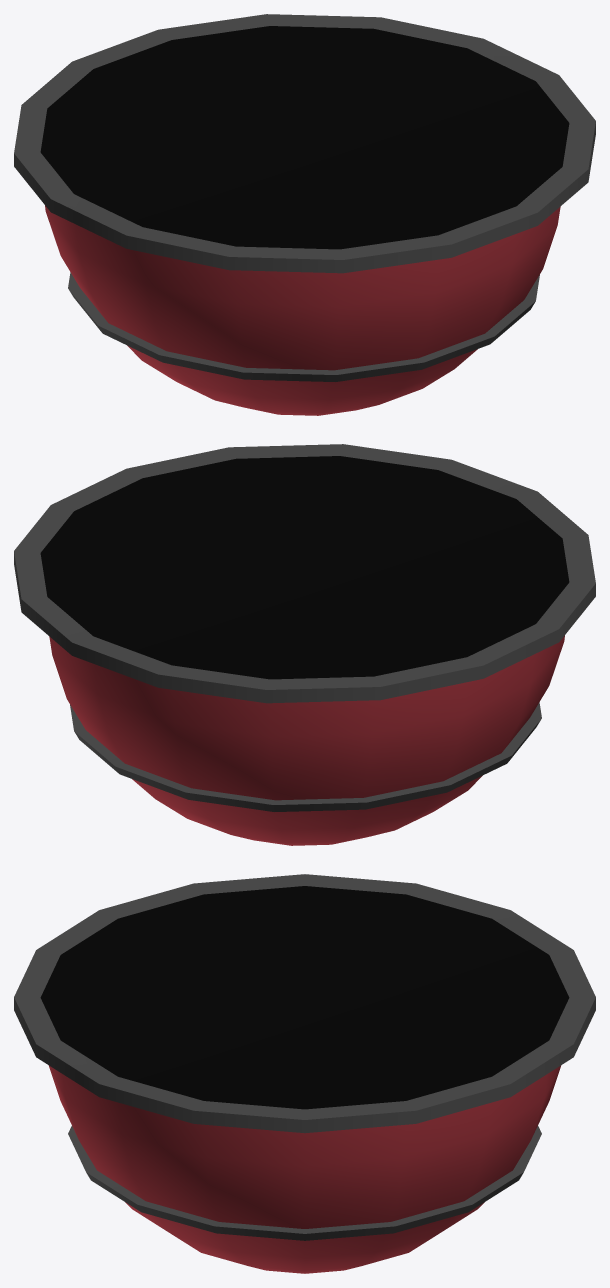
Rendered from Treads_Base.fbx.
The picture shows the model from 3 angles, top to bottom: view 1: azimuth 30°, elevation 25°; view 2: azimuth 150°, elevation 25°; view 3: azimuth 270°, elevation 25°; orthographic projection.
Visible parts, largest first — view 1: Legs; view 2: Legs; view 3: Legs.
Part boxes in pixels (x1,y1,x2,y2): Legs: (14,14,595,415); Legs: (14,444,595,845); Legs: (14,874,595,1273).
Bounding box in the file's own units: 0.7447 × 0.3561 × 0.7447.
